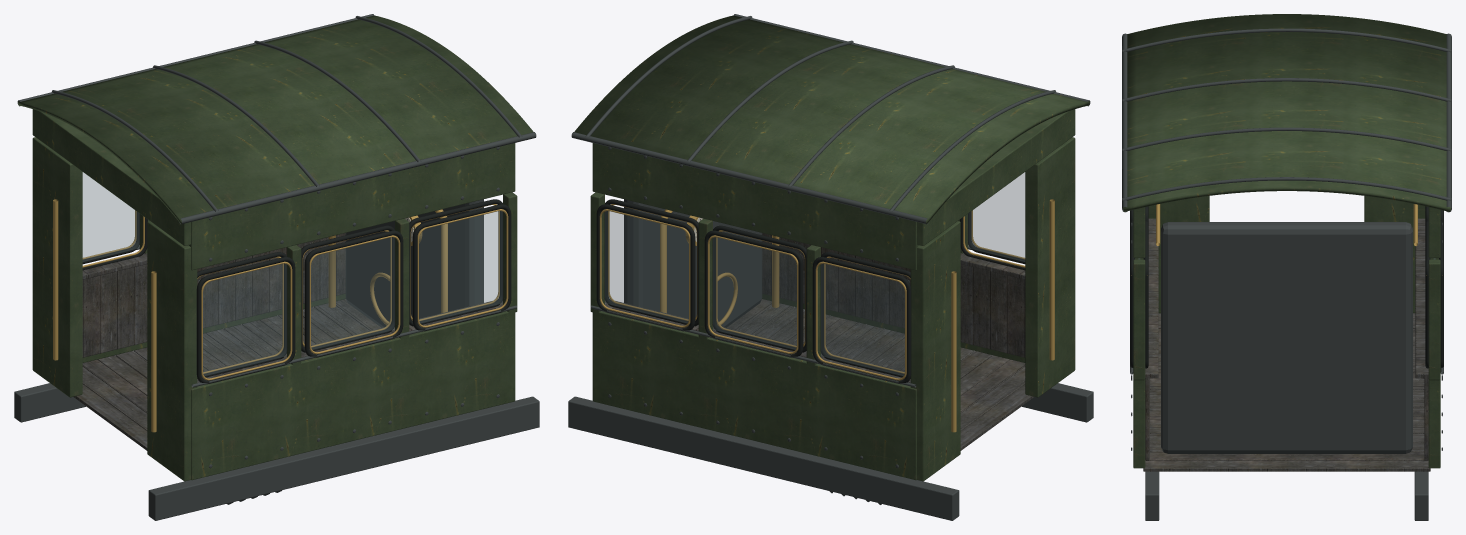
File: locomotive_cab_finish.glb
The picture shows the model from 3 angles, left to right: view 1: azimuth 30°, elevation 25°; view 2: azimuth 150°, elevation 25°; view 3: azimuth 270°, elevation 25°; orthographic projection.
Visible parts, largest first — view 1: locomotive_cab_finish; view 2: locomotive_cab_finish; view 3: locomotive_cab_finish.
Part boxes in pixels (x1,y1,x2,y2): locomotive_cab_finish: (14,14,539,520); locomotive_cab_finish: (568,14,1093,520); locomotive_cab_finish: (1122,14,1451,520).
Size of the model in its own units: 3.8 by 3.18 by 2.81.
Materials: 7 (2 with a texture image).
